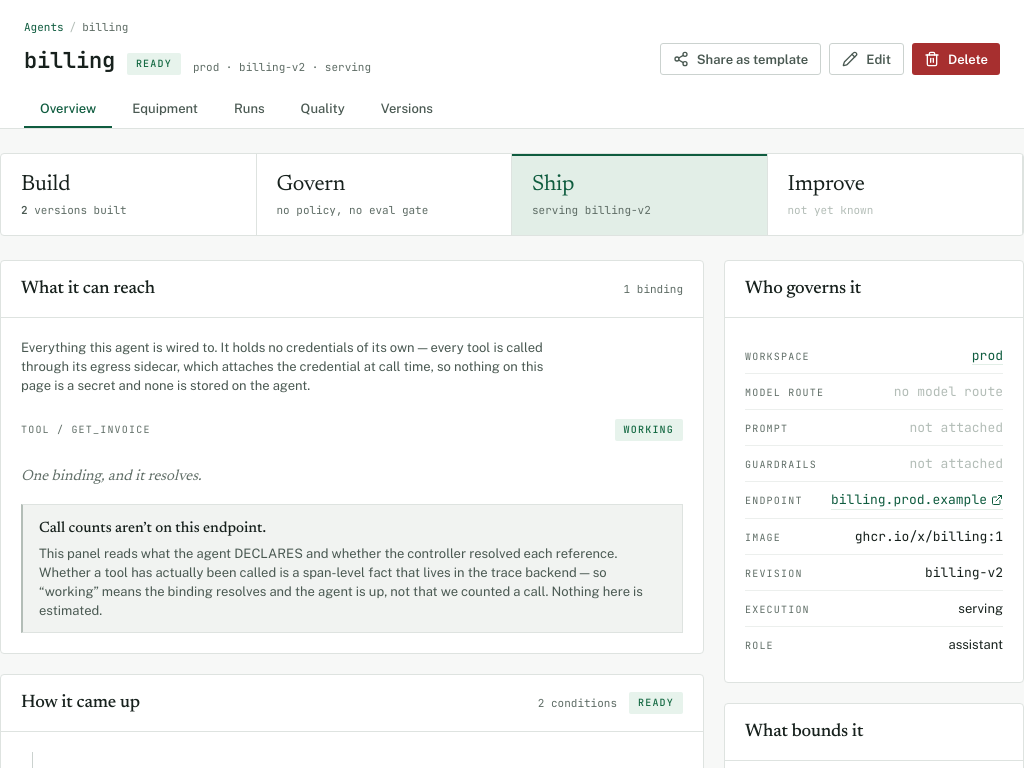
Test case: AgentDetailPage (landing page) › the Logs tab shows a WAITING state (no pod yet), not an error
The width and height of the screenshot is (1024, 768).
Click the tab "Runs" at (249, 110), box [218, 91, 281, 128]
(page scrolled)
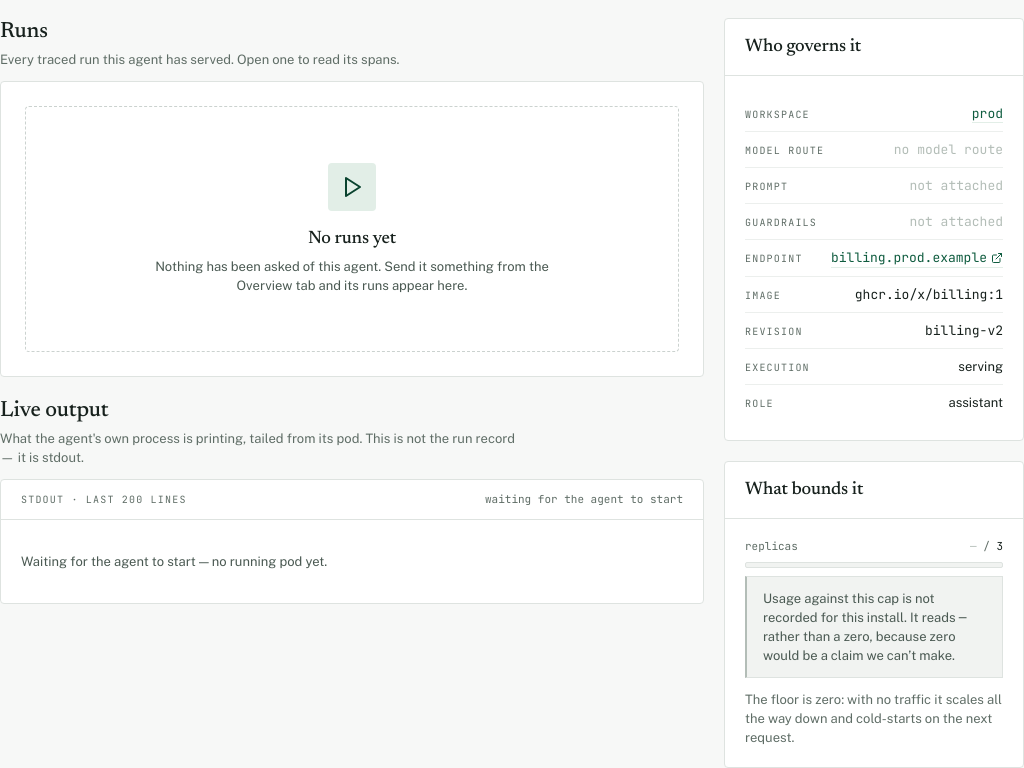
Now the text "Waiting for the agent to start — no running pod yet." is shown, box [21, 554, 327, 569]
